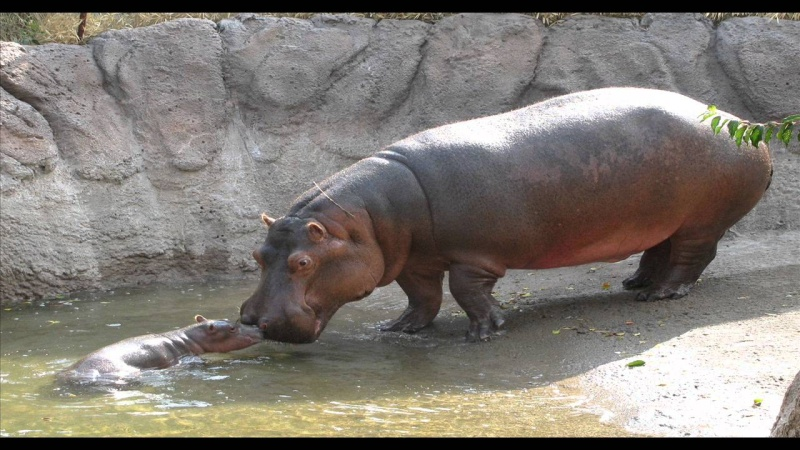hipopotamo: (237, 83, 776, 343), (50, 313, 268, 390)
